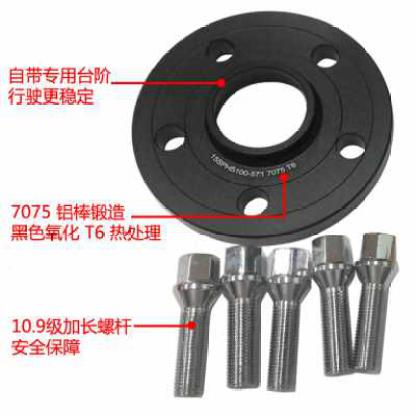FOD: (128, 8, 399, 244), (162, 250, 224, 399), (348, 230, 410, 377)
